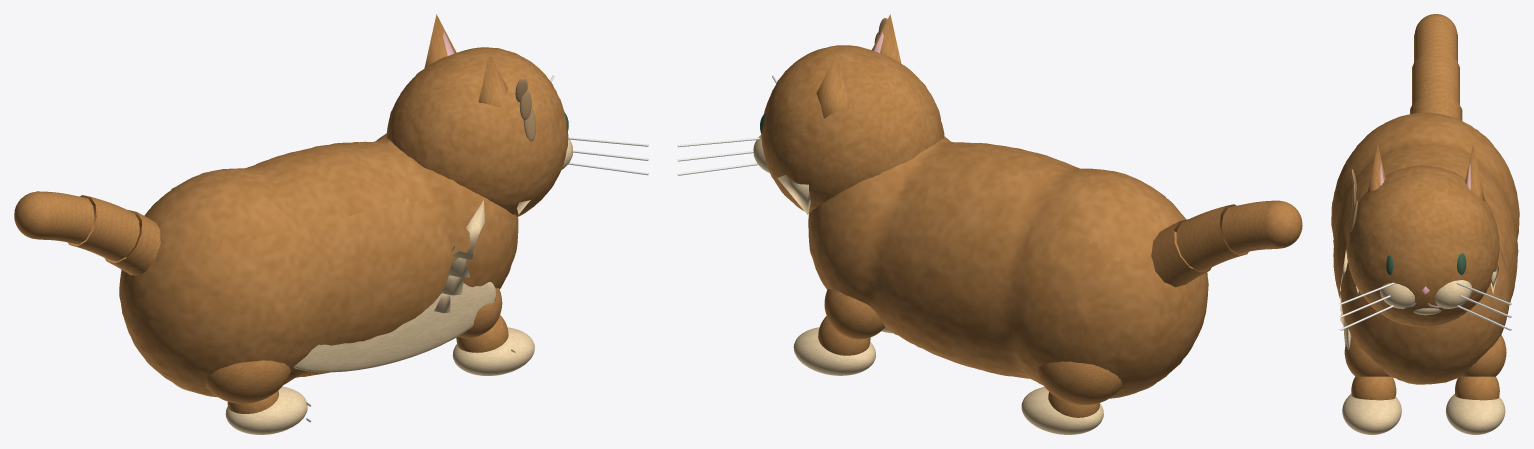
File: cat-golden.glb
The picture shows the model from 3 angles, left to right: view 1: azimuth 30°, elevation 25°; view 2: azimuth 150°, elevation 25°; view 3: azimuth 270°, elevation 25°; orthographic projection. The views are drawn at different scales.
Parts seen in each view (by area): view 1: Body, HeadMesh, BellyPatch, UpperLeg_BL, TailMesh_1, Paw_FL, Paw_BL, TailMesh_2, TailMesh_0, TailTip, LowerLeg_FL, Ear_Near (+3 smaller); view 2: Body, HeadMesh, UpperLeg_BR, TailMesh_1, TailMesh_2, Paw_FR, UpperLeg_FR, Paw_BR, TailMesh_0, TailTip, Ear_Far, LowerLeg_FR (+2 smaller); view 3: Body, HeadMesh, TailMesh_1, Paw_FL, Paw_FR, TailMesh_2, LowerLeg_FL, LowerLeg_FR, UpperLeg_FR, UpperLeg_FL, TailMesh_0, Muzzle_Far (+4 smaller).
Boxes of the visible parts, x1,y1,x2,y2 form: Body: (119,133,518,397); HeadMesh: (386,47,568,216); BellyPatch: (293,282,496,372); UpperLeg_BL: (205,360,290,403); TailMesh_1: (67,195,139,261); Paw_FL: (452,327,534,375); Paw_BL: (225,386,307,434); TailMesh_2: (36,191,94,244); TailMesh_0: (104,210,160,276); TailTip: (14,191,52,239); LowerLeg_FL: (456,315,508,352); Ear_Near: (478,53,507,107); Body: (808,136,1208,398); HeadMesh: (761,45,944,213); UpperLeg_BR: (1036,361,1122,404); TailMesh_1: (1176,204,1248,270); TailMesh_2: (1222,200,1279,253); Paw_FR: (793,327,875,375); UpperLeg_FR: (824,289,884,339); Paw_BR: (1021,387,1103,434); TailMesh_0: (1151,219,1211,287); TailTip: (1264,201,1302,248); Ear_Far: (816,53,849,118); LowerLeg_FR: (818,316,870,355); Body: (1331,112,1519,384); HeadMesh: (1346,165,1499,327); TailMesh_1: (1412,53,1459,104); Paw_FL: (1342,394,1401,434); Paw_FR: (1446,394,1505,434); TailMesh_2: (1414,18,1457,62); LowerLeg_FL: (1351,376,1396,400); LowerLeg_FR: (1455,376,1499,400); UpperLeg_FR: (1461,335,1506,376); UpperLeg_FL: (1344,337,1390,376); TailMesh_0: (1410,97,1462,120); Muzzle_Far: (1435,280,1471,308).
Bounding box in the file's own units: 3.45 × 1.82 × 1.08.
Materials: 14 (2 with a texture image).
